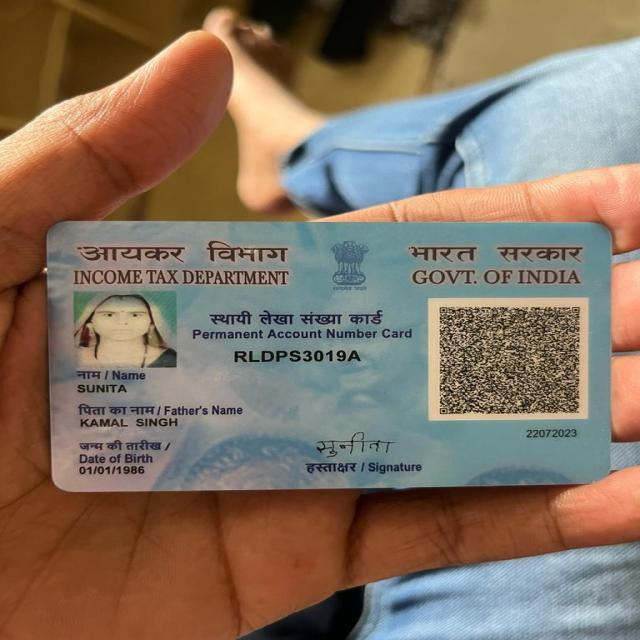pan_card: (45, 223, 607, 489)
